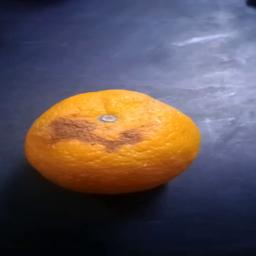Orange Semifresh: (22, 89, 205, 195)
